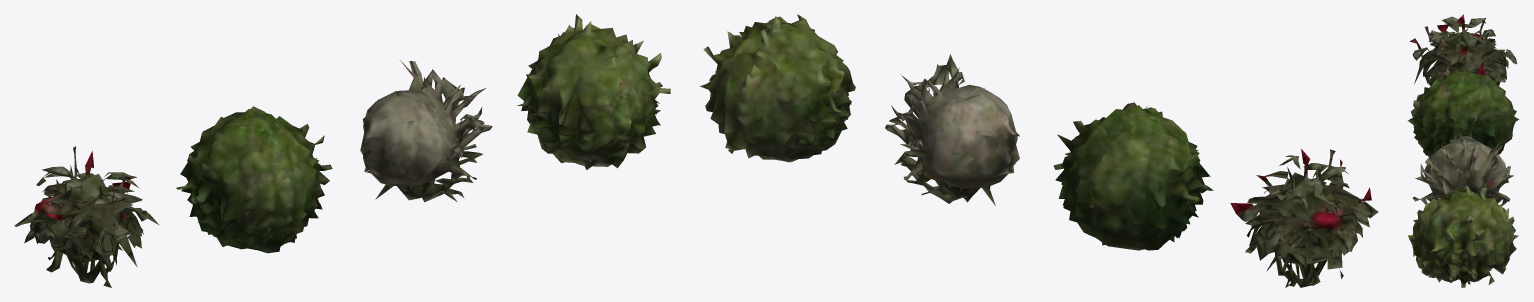
Rendered from bushes.glb.
3 views of the same model, side by side, from view 1: azimuth 30°, elevation 25°; view 2: azimuth 150°, elevation 25°; view 3: azimuth 270°, elevation 25° (orthographic). The views are drawn at different scales.
Visible parts, largest first — view 1: boxwood, round, thorny, rose; view 2: boxwood, round, thorny, rose; view 3: round, boxwood, rose, thorny.
Boxes of the visible parts, x1,y1,x2,y2 form: boxwood: [176, 106, 332, 253]; round: [517, 14, 670, 169]; thorny: [360, 59, 492, 202]; rose: [14, 146, 159, 287]; boxwood: [1053, 102, 1213, 250]; round: [699, 14, 855, 162]; thorny: [885, 54, 1019, 206]; rose: [1230, 149, 1378, 287]; round: [1408, 185, 1518, 287]; boxwood: [1407, 70, 1518, 159]; rose: [1410, 14, 1517, 85]; thorny: [1412, 133, 1513, 205].
Bounding box in the file's own units: 1 × 0.2082 × 0.2163.
1 material, 1 textured.
